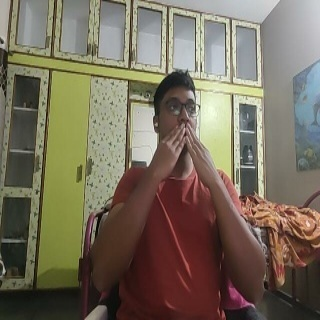Thank You: (148, 123, 226, 196)
